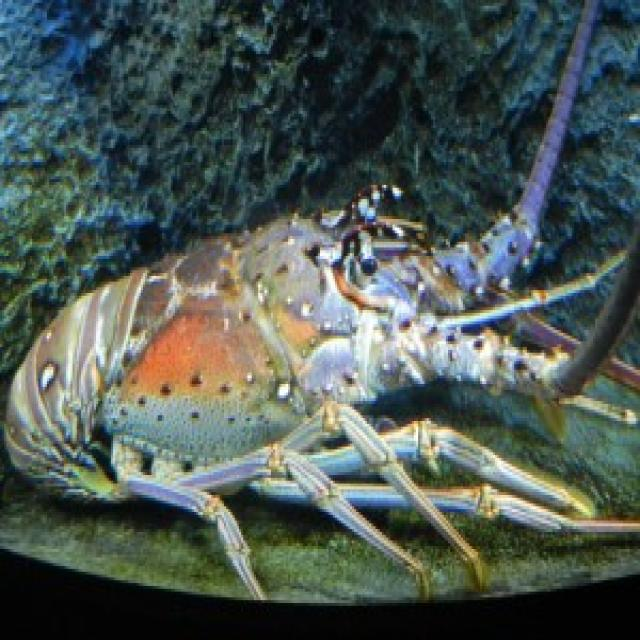lobsters: (0, 2, 640, 620)
